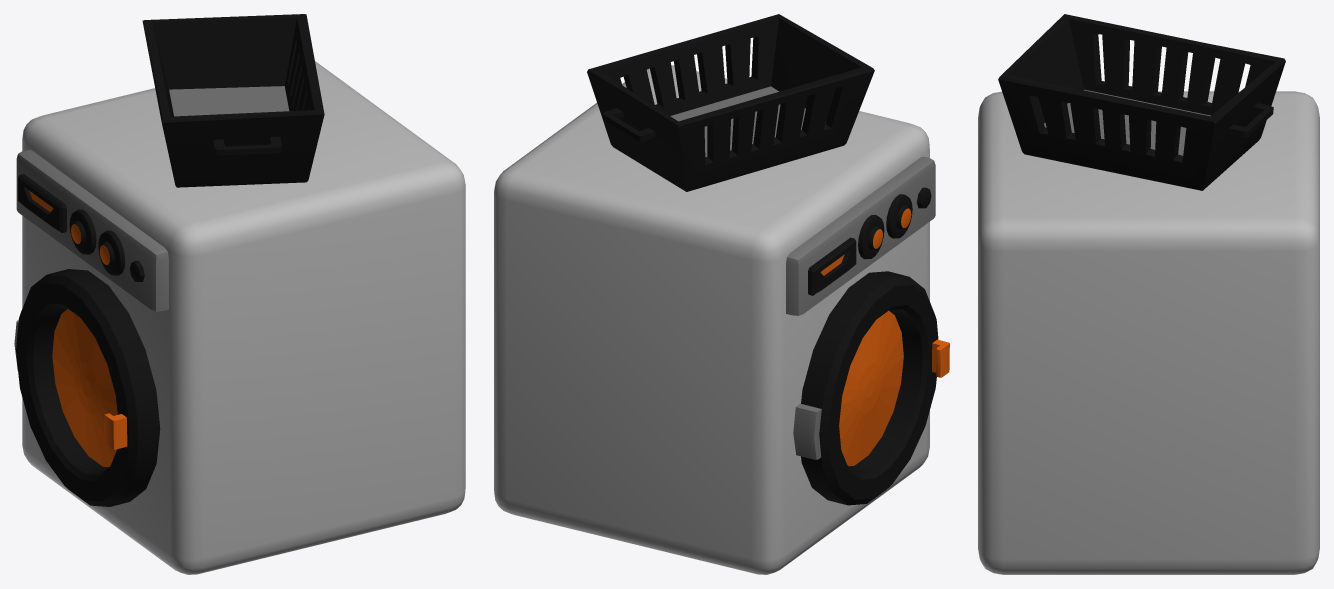
Rendered from Lavadora texturizada.fbx.
3 renders of one model, left to right at view 1: azimuth 30°, elevation 25°; view 2: azimuth 150°, elevation 25°; view 3: azimuth 270°, elevation 25°, orthographic. The views are drawn at different scales.
Parts seen in each view (by area): view 1: Lavadora; view 2: Lavadora; view 3: Lavadora.
Boxes of the visible parts, x1,y1,x2,y2 form: Lavadora: [14, 14, 465, 574]; Lavadora: [494, 14, 949, 574]; Lavadora: [978, 14, 1319, 574].
Size of the model in its own units: 45.59 by 56.3 by 40.
